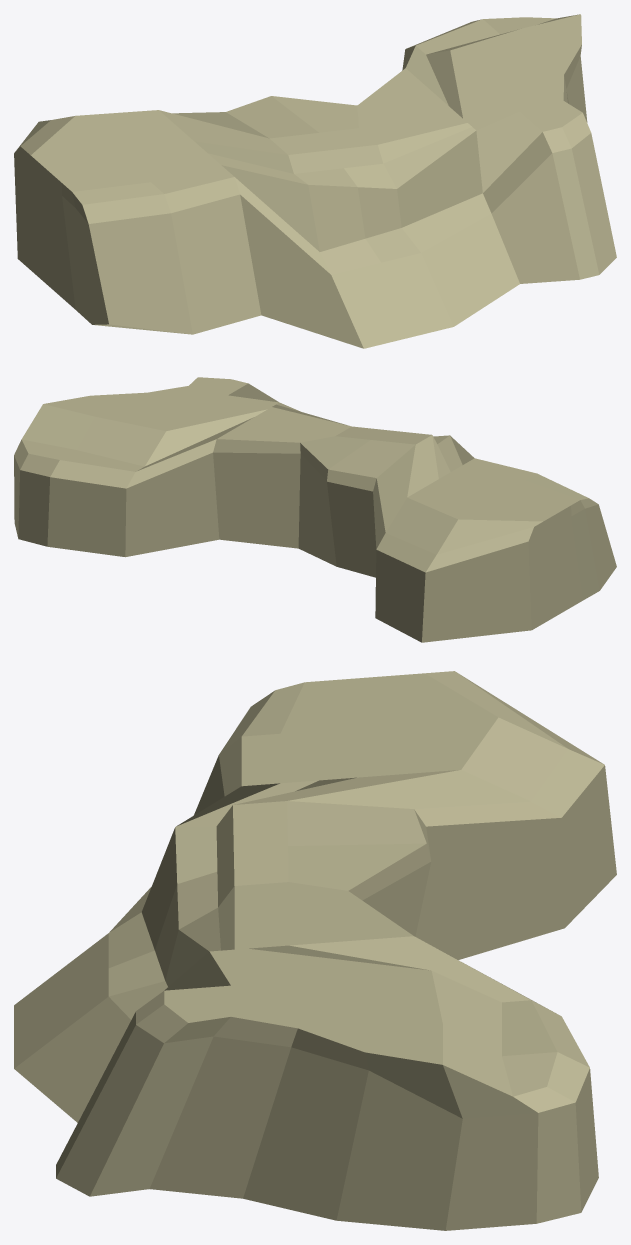
File: plzwork.fbx
3 renders of one model, top to bottom at view 1: azimuth 30°, elevation 25°; view 2: azimuth 150°, elevation 25°; view 3: azimuth 270°, elevation 25°, orthographic. The views are drawn at different scales.
Parts seen in each view (by area): view 1: pPlane1; view 2: pPlane1; view 3: pPlane1.
Boxes of the visible parts, x1,y1,x2,y2 form: pPlane1: (14,14,616,348); pPlane1: (14,377,616,642); pPlane1: (14,671,616,1230).
Size of the model in its own units: 46.72 by 11.28 by 30.18.
